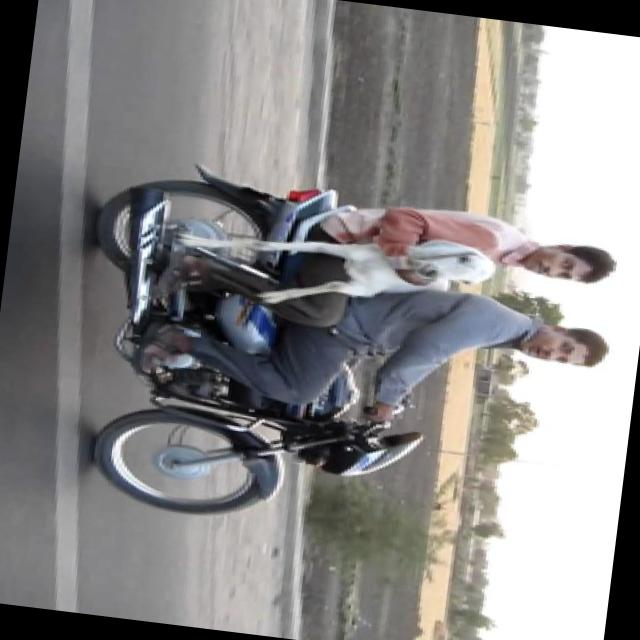bareface: (510, 232, 620, 294), (516, 318, 612, 379)
